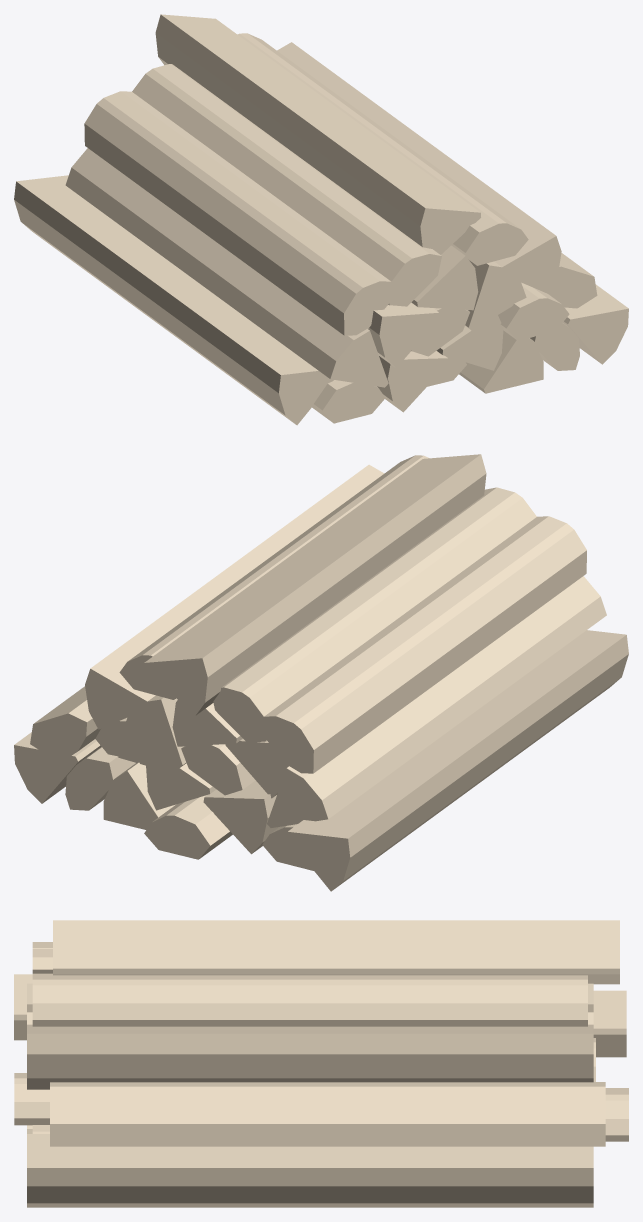
3 views of the same model, one above another, from view 1: azimuth 30°, elevation 25°; view 2: azimuth 150°, elevation 25°; view 3: azimuth 270°, elevation 25° (orthographic). The views are drawn at different scales.
Parts seen in each view (by area): view 1: Body; view 2: Body; view 3: Body.
Boxes of the visible parts, box(x1,y1,x2,y2) form: Body: box(14, 14, 628, 425); Body: box(14, 454, 628, 891); Body: box(14, 920, 628, 1207).
Size of the model in its own units: 26.28 by 14.18 by 39.06.
